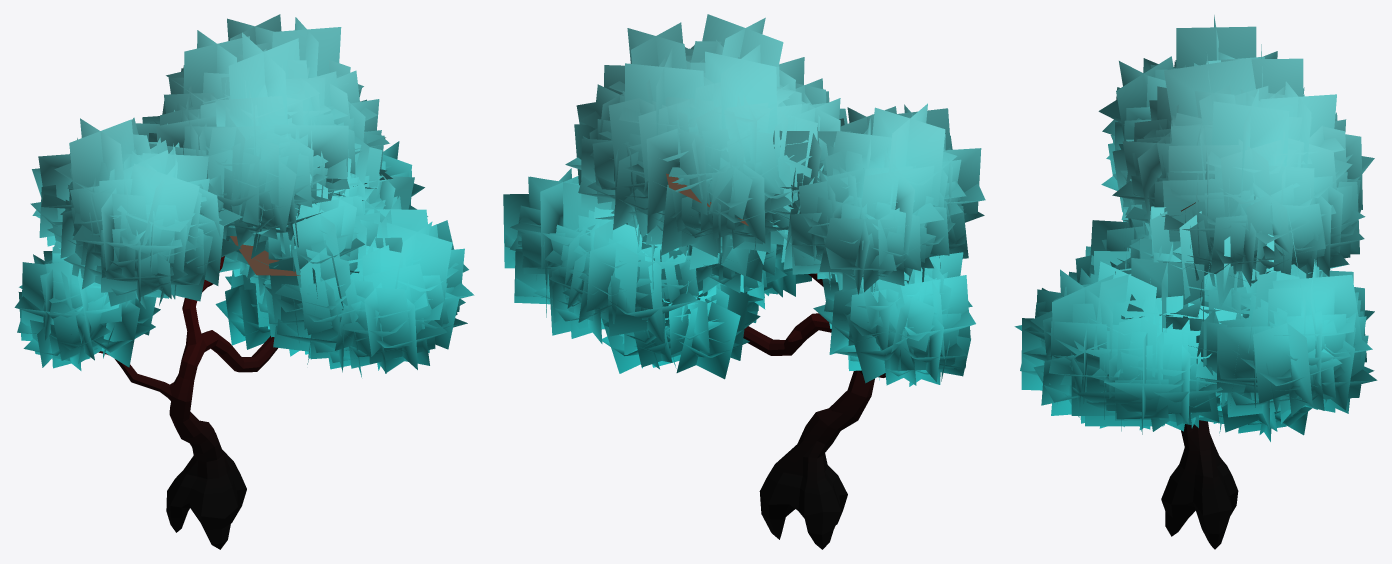
Rendered from SM_Env_Tree_Pine_02.fbx.
3 renders of one model, left to right at view 1: azimuth 30°, elevation 25°; view 2: azimuth 150°, elevation 25°; view 3: azimuth 270°, elevation 25°, orthographic. The views are drawn at different scales.
Parts seen in each view (by area): view 1: SM_Env_Tree_Pine_02_LOD0, SM_Env_Tree_Pine_02_Branches_LOD0; view 2: SM_Env_Tree_Pine_02_LOD0; view 3: SM_Env_Tree_Pine_02_LOD0.
Part boxes in pixels (x1,y1,x2,y2): SM_Env_Tree_Pine_02_LOD0: (14, 14, 474, 549); SM_Env_Tree_Pine_02_Branches_LOD0: (230, 236, 300, 275); SM_Env_Tree_Pine_02_LOD0: (503, 14, 985, 549); SM_Env_Tree_Pine_02_LOD0: (1014, 15, 1377, 549).
Size of what is drawn, in the model's own units: 574 by 612 by 395.
